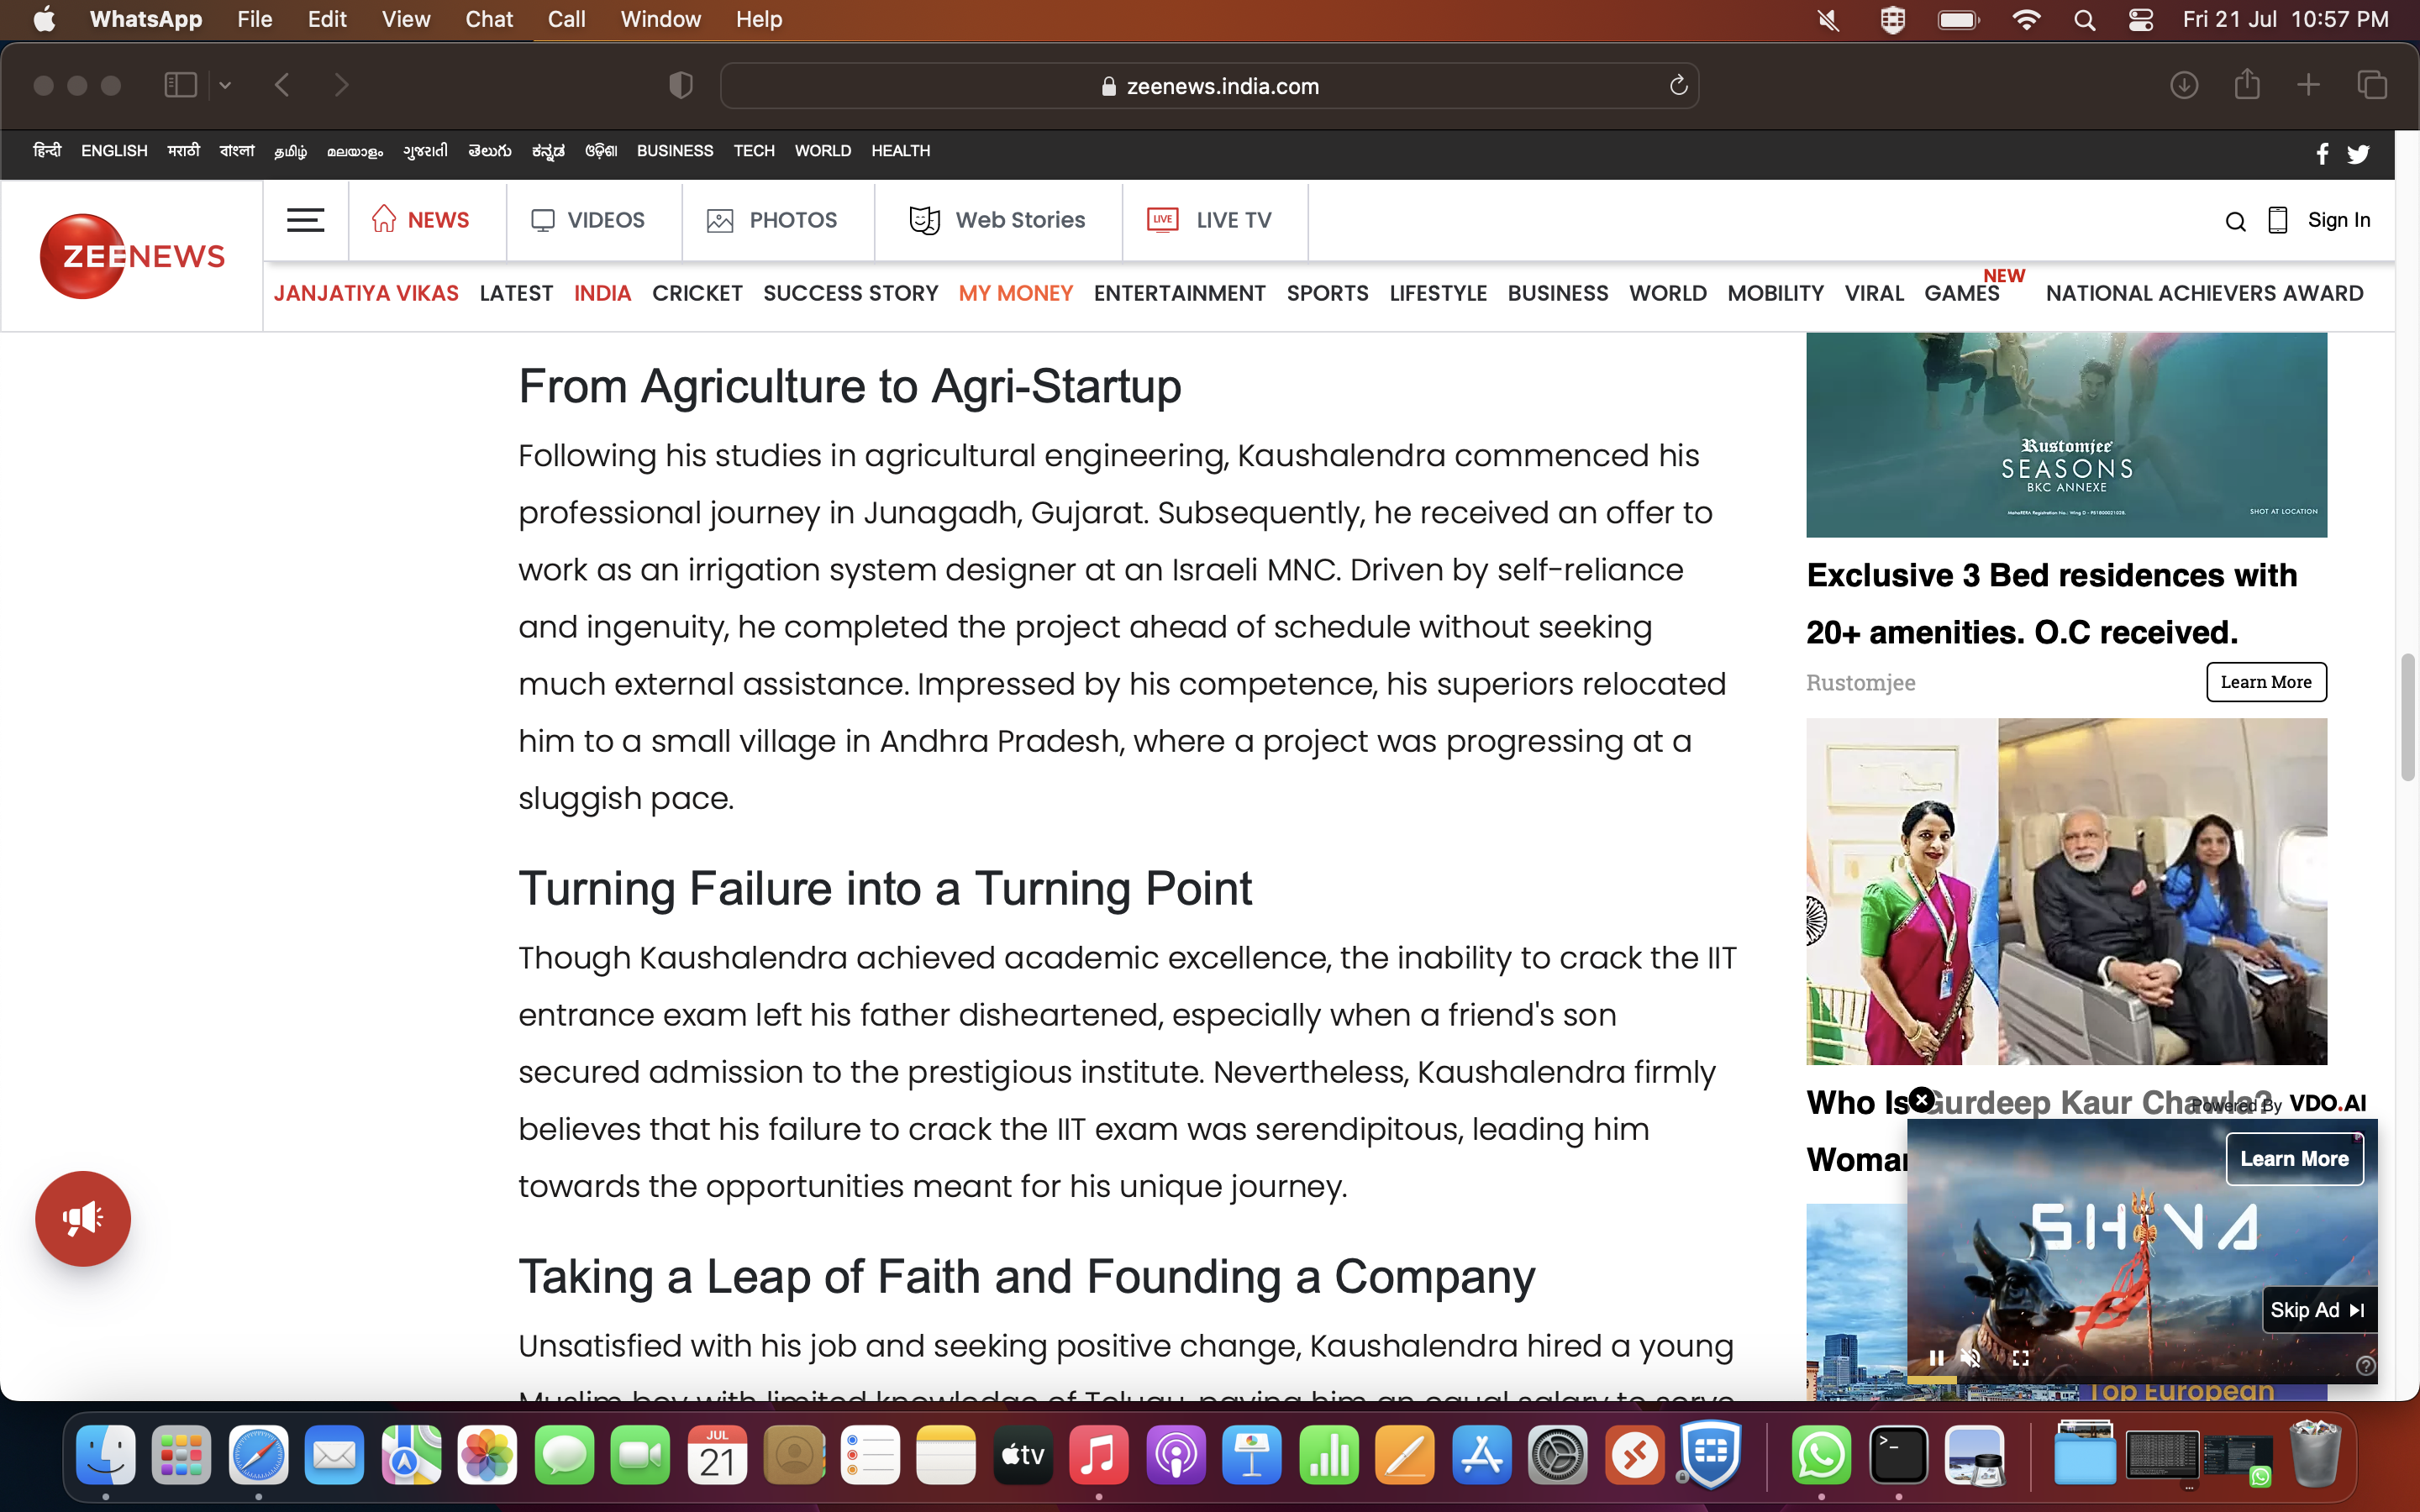Image: (1803, 723, 2322, 1063), (1908, 1129, 2369, 1385), (1800, 340, 2322, 524)
Paragraph: (493, 429, 1753, 829), (514, 928, 1739, 1214), (521, 1239, 1565, 1317), (514, 1324, 1760, 1388), (1800, 542, 2305, 651), (517, 857, 1275, 918), (500, 357, 1193, 415), (1091, 265, 1279, 326), (765, 270, 946, 326), (265, 270, 456, 312), (946, 270, 1087, 322), (1622, 261, 1718, 322), (1495, 265, 1619, 312), (1289, 268, 1385, 322), (1385, 268, 1495, 315), (1718, 270, 1828, 315), (659, 268, 754, 315), (559, 270, 652, 308), (477, 273, 556, 315), (1838, 270, 1908, 308)
